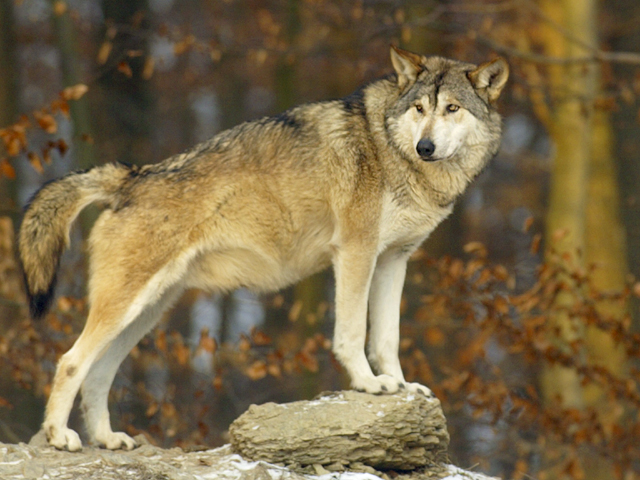wolf: (25, 46, 516, 460)
